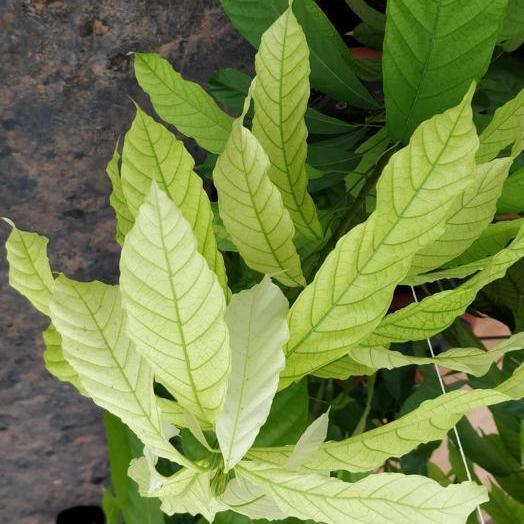Healthy Leaf: (283, 83, 478, 380), (49, 275, 195, 469), (120, 182, 230, 422), (213, 118, 305, 286), (237, 461, 486, 523), (215, 276, 288, 471)
